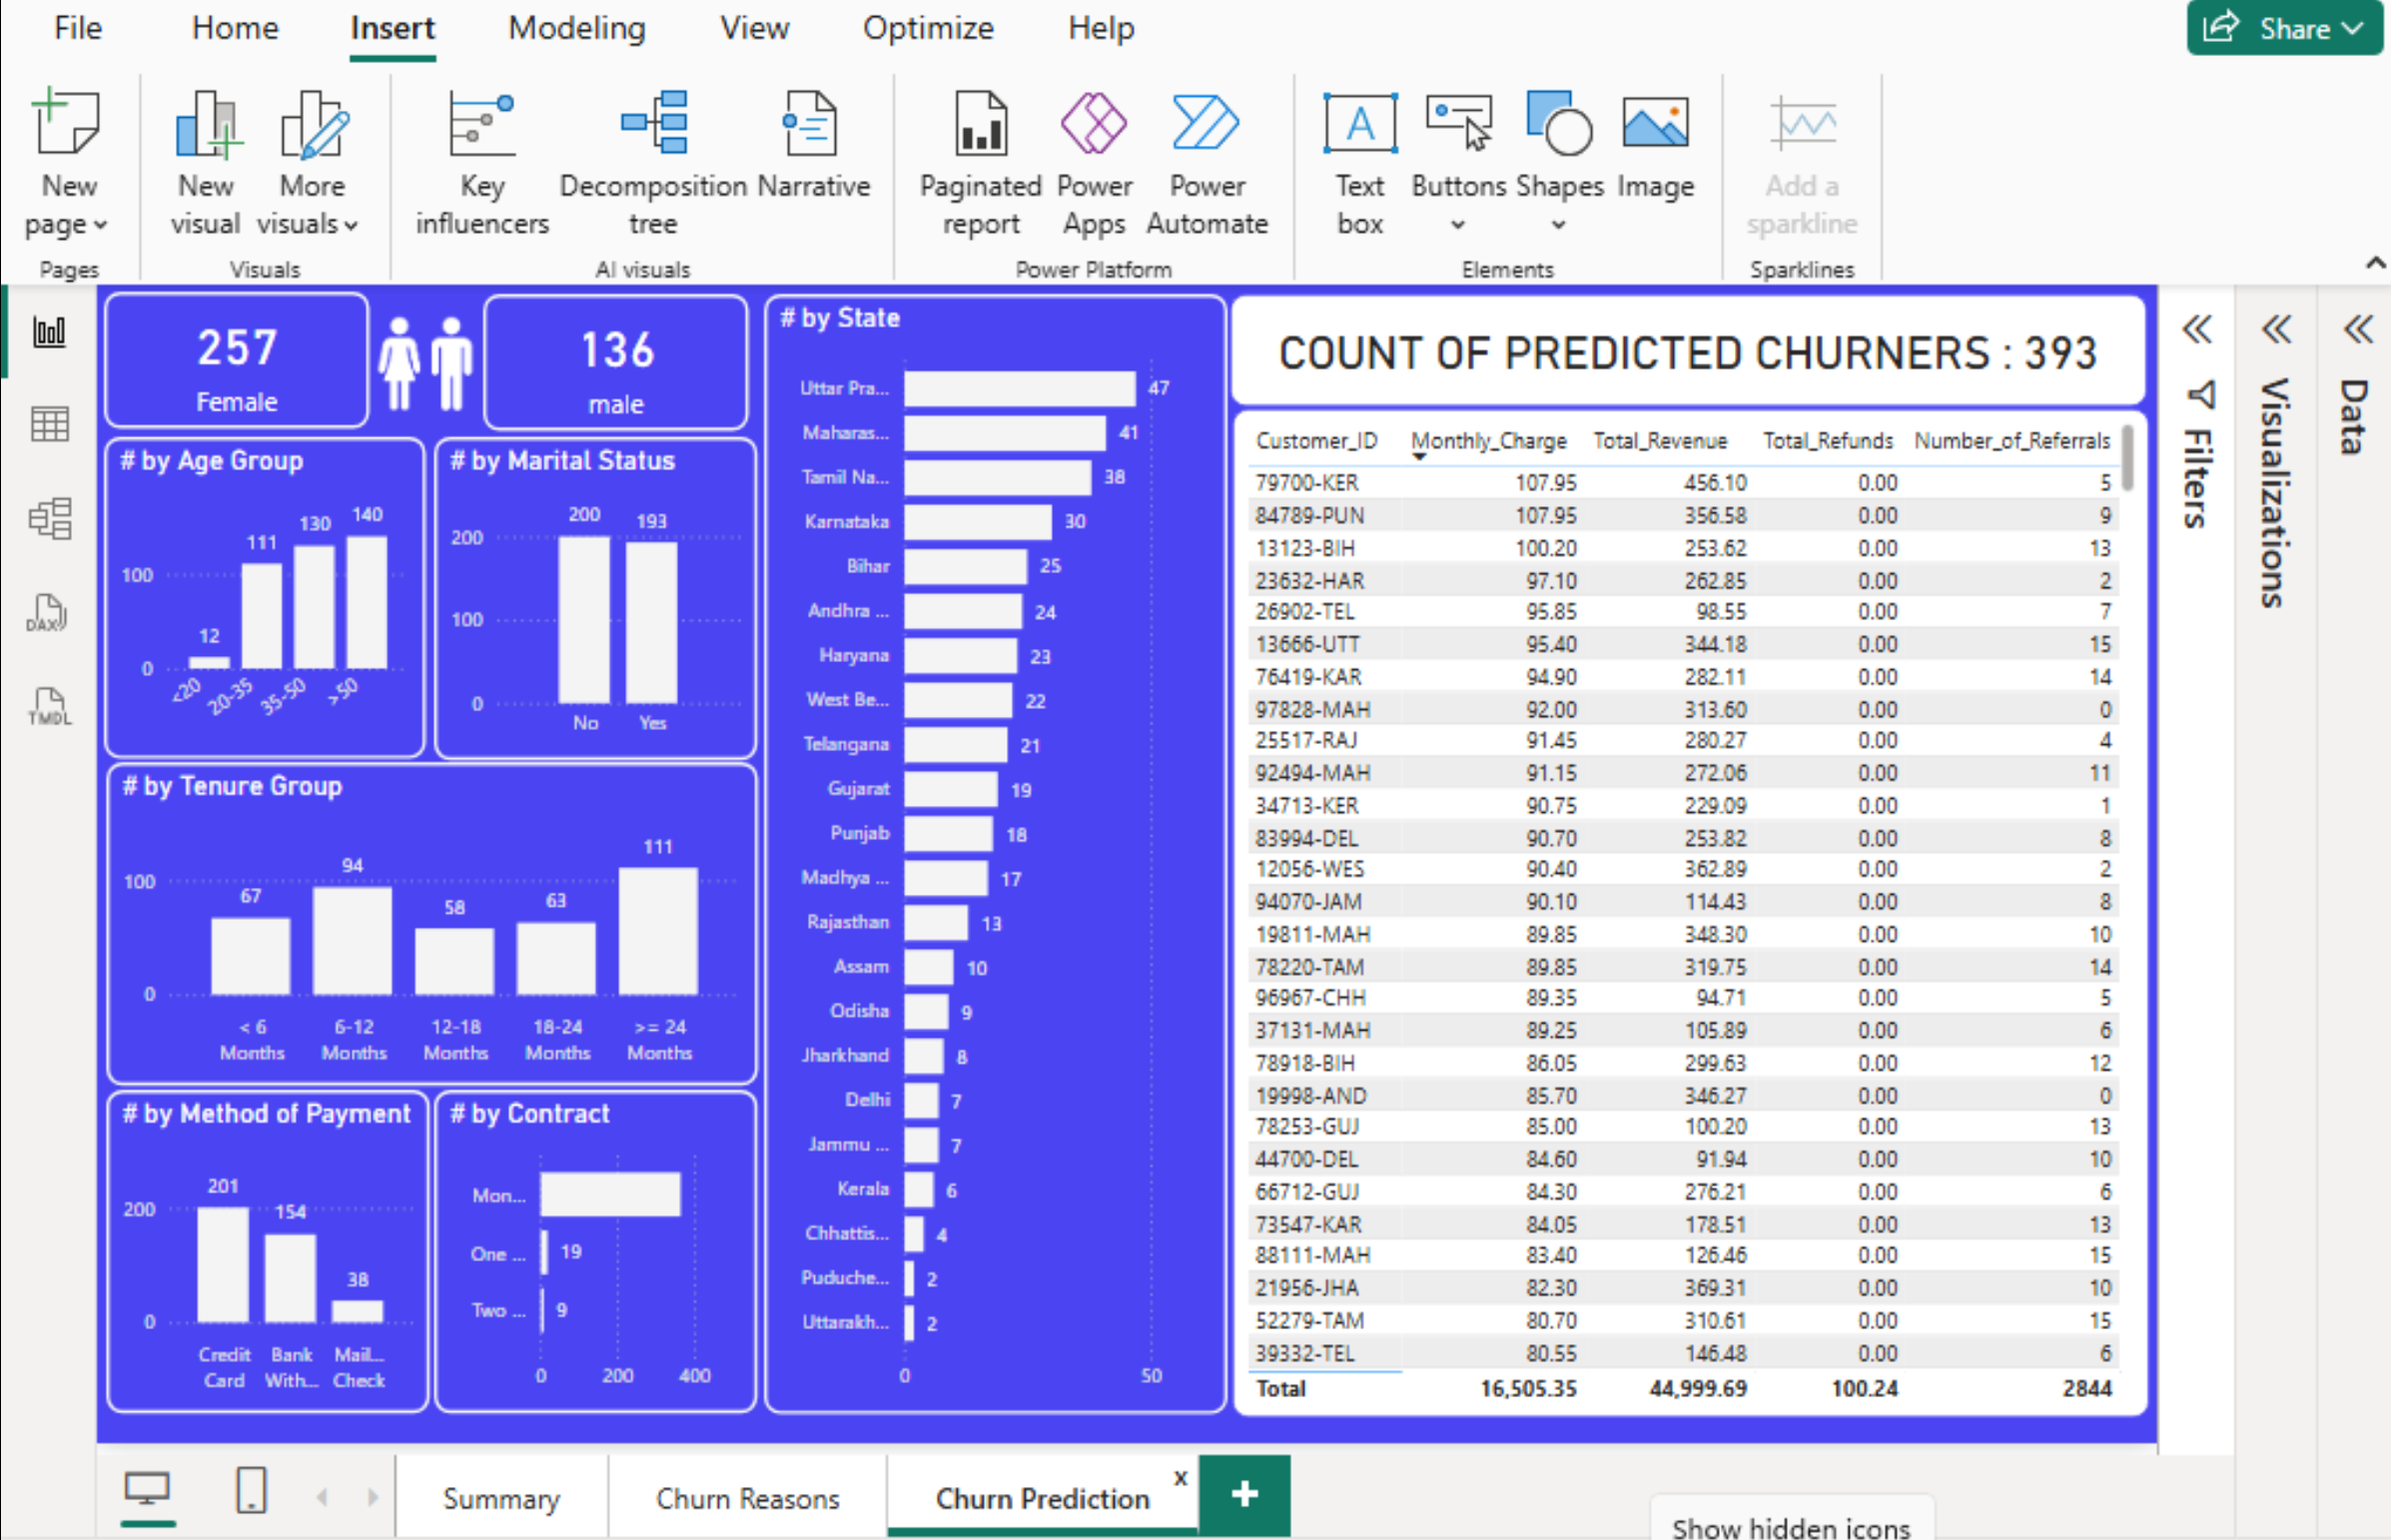

This screenshot's page, from the dashboard's own definition file:
{"tool":"powerbi","page":{"name":"Churn Prediction","canvas":[1280,720],"ordinal":2},"visuals":[{"type":"tableEx","fields":{"Values":["Predictions.Customer_ID","Sum(Predictions.Monthly_Charge)","Sum(Predictions.Total_Revenue)","Sum(Predictions.Total_Refunds)","Sum(Predictions.Number_of_Referrals)"]},"box":[705,77,570,627],"z":0},{"type":"card","fields":{"Values":["_Measure.Count Predicted Churner"]},"box":[5,5,165,85.4],"z":1000},{"type":"card","fields":{"Values":["_Measure.Count Predicted Churner"]},"box":[240.7,5.2,165,85.4],"z":2000},{"type":"clusteredColumnChart","title":"# by Age Group","fields":{"Category":["mapping_AgeGrp.Age Group"],"Y":["CountNonNull(Predictions.Customer_ID)"]},"box":[5,95,200,200],"z":3000},{"type":"clusteredColumnChart","title":"# by Marital Status","fields":{"Category":["Predictions.Married"],"Y":["CountNonNull(Predictions.Customer_ID)"]},"box":[209,94.2,200.5,200.5],"z":4000},{"type":"clusteredColumnChart","title":"# by Tenure Group","fields":{"Y":["CountNonNull(Predictions.Customer_ID)"],"Category":["mapping_TenureGrp.Tenure Group"]},"box":[5.2,296,404.6,200.5],"z":5000},{"type":"clusteredColumnChart","title":"# by Method of Payment","fields":{"Y":["CountNonNull(Predictions.Customer_ID)"],"Category":["Predictions.Payment_Method"]},"box":[5.2,500,200.5,200.5],"z":6000},{"type":"clusteredBarChart","title":"# by Contract","fields":{"Category":["Predictions.Contract"],"Y":["CountNonNull(Predictions.Customer_ID)"]},"box":[209.3,500.5,200.5,200.5],"z":7000},{"type":"clusteredBarChart","title":"# by State","fields":{"Category":["Predictions.State"],"Y":["CountNonNull(Predictions.Customer_ID)"]},"box":[414,5.2,287.7,695.8],"z":8000},{"type":"card","fields":{"Values":["_Measure.Title Predicted Churner"]},"box":[704.5,5.2,570.2,70],"z":9000},{"type":"image","box":[167.4,8.7,73.2,80.2],"z":10000}]}

Visuals, with their boxes on the page's 1280x720 design canvas (x1, y1, x2, y2). These are canvas units, not pixel positions in the 2391x1540 screenshot, which may show the page scaled, cropped or inside an application window:
tableEx - Predictions.Customer_ID x Sum(Predictions.Monthly_Charge): bbox(705, 77, 1275, 704)
card - _Measure.Count Predicted Churner: bbox(5, 5, 170, 90)
card - _Measure.Count Predicted Churner: bbox(241, 5, 406, 91)
"# by Age Group" clusteredColumnChart: bbox(5, 95, 205, 295)
"# by Marital Status" clusteredColumnChart: bbox(209, 94, 410, 295)
"# by Tenure Group" clusteredColumnChart: bbox(5, 296, 410, 496)
"# by Method of Payment" clusteredColumnChart: bbox(5, 500, 206, 700)
"# by Contract" clusteredBarChart: bbox(209, 500, 410, 701)
"# by State" clusteredBarChart: bbox(414, 5, 702, 701)
card - _Measure.Title Predicted Churner: bbox(704, 5, 1275, 75)
image: bbox(167, 9, 241, 89)
